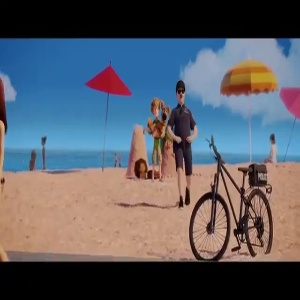Scooby: (161, 104, 169, 122)
Shagy: (148, 99, 161, 119)
